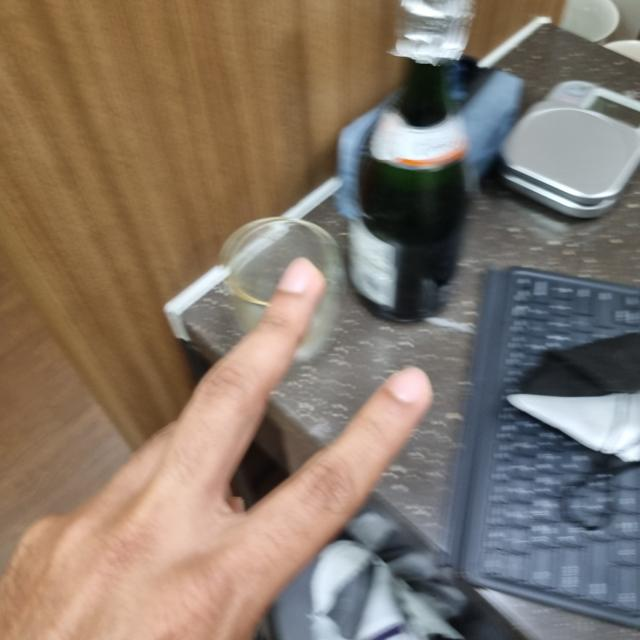Scissors: (0, 266, 429, 638)
